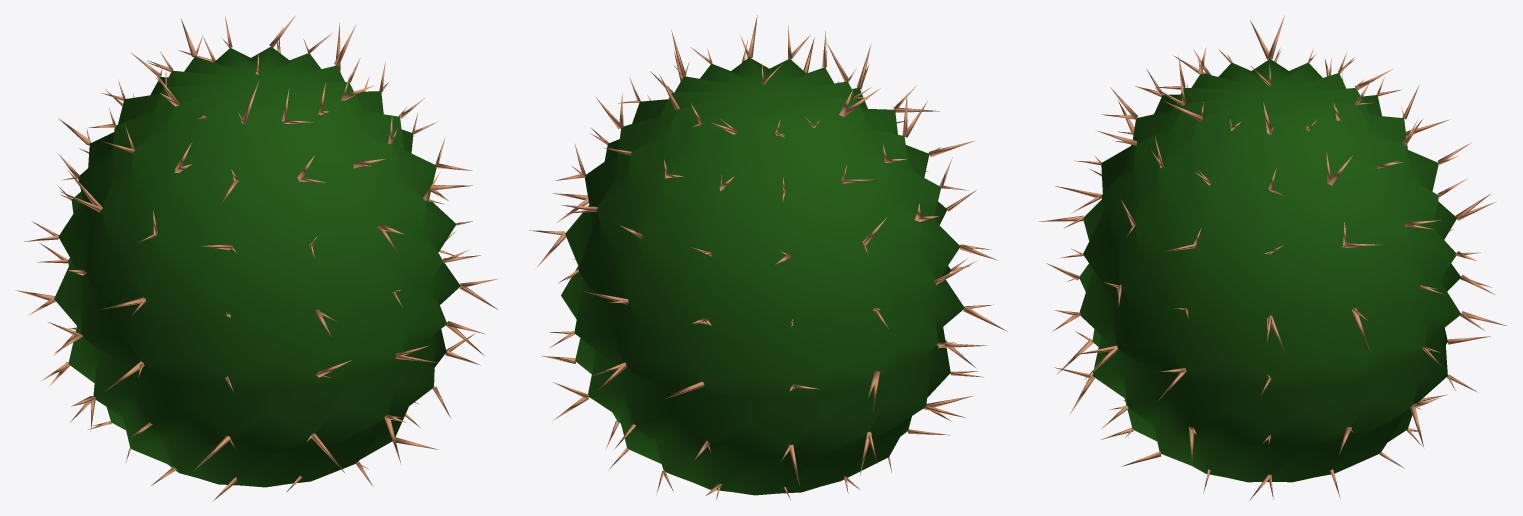
File: cactusSmall.fbx
3 renders of one model, left to right at view 1: azimuth 30°, elevation 25°; view 2: azimuth 150°, elevation 25°; view 3: azimuth 270°, elevation 25°, orthographic. The views are drawn at different scales.
Visible parts, largest first — view 1: Sphere.007; view 2: Sphere.007; view 3: Sphere.007.
Boxes of the visible parts, box(x1,y1,x2,y2) form: Sphere.007: box(15, 15, 497, 501); Sphere.007: box(529, 15, 1007, 500); Sphere.007: box(1038, 15, 1507, 500).
Size of the model in its own units: 107 by 95.23 by 105.
